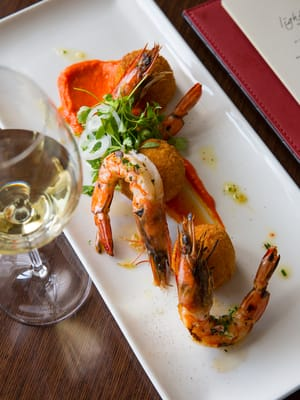sandwich: (177, 0, 300, 181)
